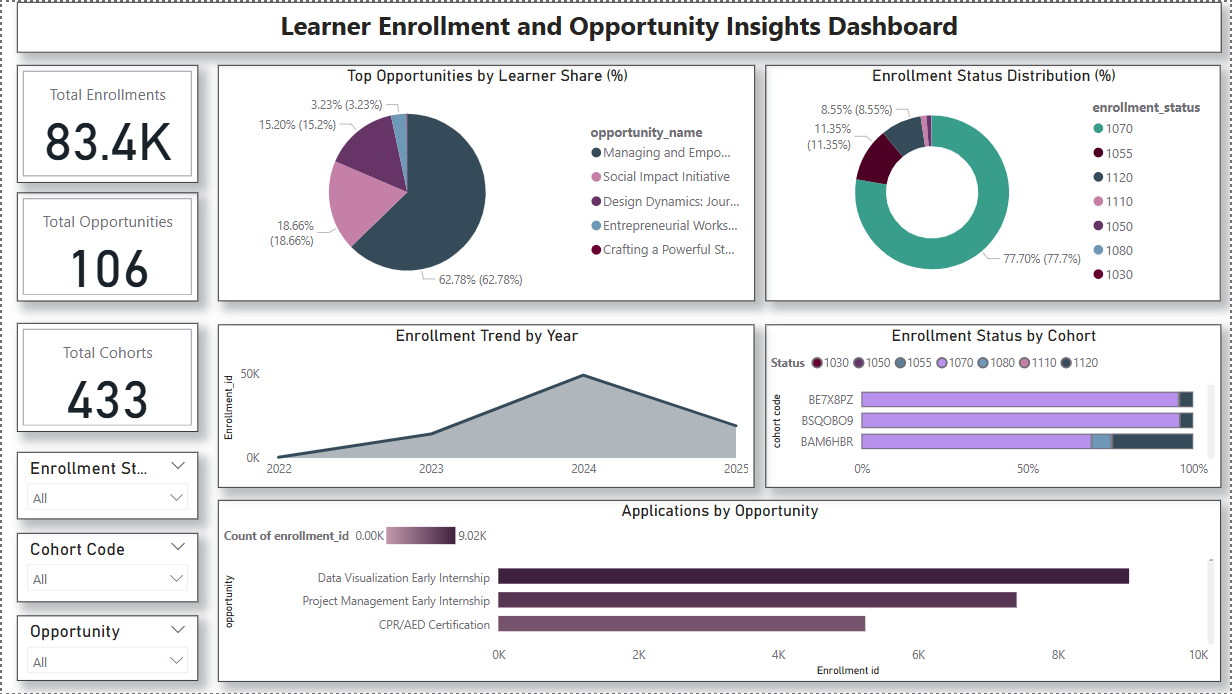

This screenshot's page, from the dashboard's own definition file:
{"tool":"powerbi","page":{"name":"Overview","canvas":[1280,720],"ordinal":0},"visuals":[{"type":"cardVisual","fields":{"Data":["CountNonNull(mastertable.enrollment_id)"]},"box":[15.1,66.1,189,122.8],"z":0},{"type":"cardVisual","fields":{"Data":["Count(mastertable.opportunity_name)"]},"box":[15.1,198.4,189,113.4],"z":1},{"type":"cardVisual","fields":{"Data":["Count(mastertable.cohort_code)"]},"box":[15.1,334.5,189,113.4],"z":2},{"type":"slicer","fields":{"Values":["mastertable.enrollment_status"]},"box":[15.1,468.7,189,69.9],"z":3},{"type":"slicer","fields":{"Values":["mastertable.cohort_code"]},"box":[15.1,553.7,189,71.8],"z":4},{"type":"slicer","fields":{"Values":["mastertable.opportunity_name"]},"box":[15.1,638.7,189,68],"z":5},{"type":"clusteredBarChart","title":"Applications by Opportunity","fields":{"Y":["Count(mastertable.enrollment_id)"],"Category":["mastertable.opportunity_name"]},"box":[225.1,518.2,1044.4,189.4],"z":6},{"type":"hundredPercentStackedBarChart","title":"Enrollment Status by Cohort","fields":{"Category":["mastertable.cohort_code"],"Series":["mastertable.enrollment_status"],"Y":["CountNonNull(mastertable.enrollment_id)"]},"box":[795,335.2,474.4,170],"z":8},{"type":"areaChart","title":"Enrollment Trend by Year","fields":{"Category":["mastertable.cohort_start.Variation.Date Hierarchy.Year"],"Y":["CountNonNull(mastertable.enrollment_id)"]},"box":[225.1,335.2,558.6,170],"z":9},{"type":"pieChart","title":"Top Opportunities by Learner Share (%)","fields":{"Y":["CountNonNull(mastertable.learner_id)"],"Category":["mastertable.opportunity_name"]},"box":[224.9,66.1,559.4,245.7],"z":10},{"type":"donutChart","title":"Enrollment Status Distribution (%)","fields":{"Category":["mastertable.enrollment_status"],"Y":["CountNonNull(mastertable.enrollment_id)"]},"box":[795,66,474,246],"z":11},{"type":"textbox","box":[15.1,0,1254.8,52.9],"z":12}]}

Visuals, with their boxes in screenshot pixels (x1, y1, x2, y2), scaled from the page's 1280x720 canvas onto the 1232x694 screenshot:
cardVisual - CountNonNull(mastertable.enrollment_id): 15 64 196 182
cardVisual - Count(mastertable.opportunity_name): 15 191 196 301
cardVisual - Count(mastertable.cohort_code): 15 322 196 432
slicer - mastertable.enrollment_status: 15 452 196 519
slicer - mastertable.cohort_code: 15 534 196 603
slicer - mastertable.opportunity_name: 15 616 196 681
"Applications by Opportunity" clusteredBarChart: 217 499 1222 682
"Enrollment Status by Cohort" hundredPercentStackedBarChart: 765 323 1222 487
"Enrollment Trend by Year" areaChart: 217 323 754 487
"Top Opportunities by Learner Share (%)" pieChart: 216 64 755 301
"Enrollment Status Distribution (%)" donutChart: 765 64 1221 301
textbox: 15 0 1222 51
